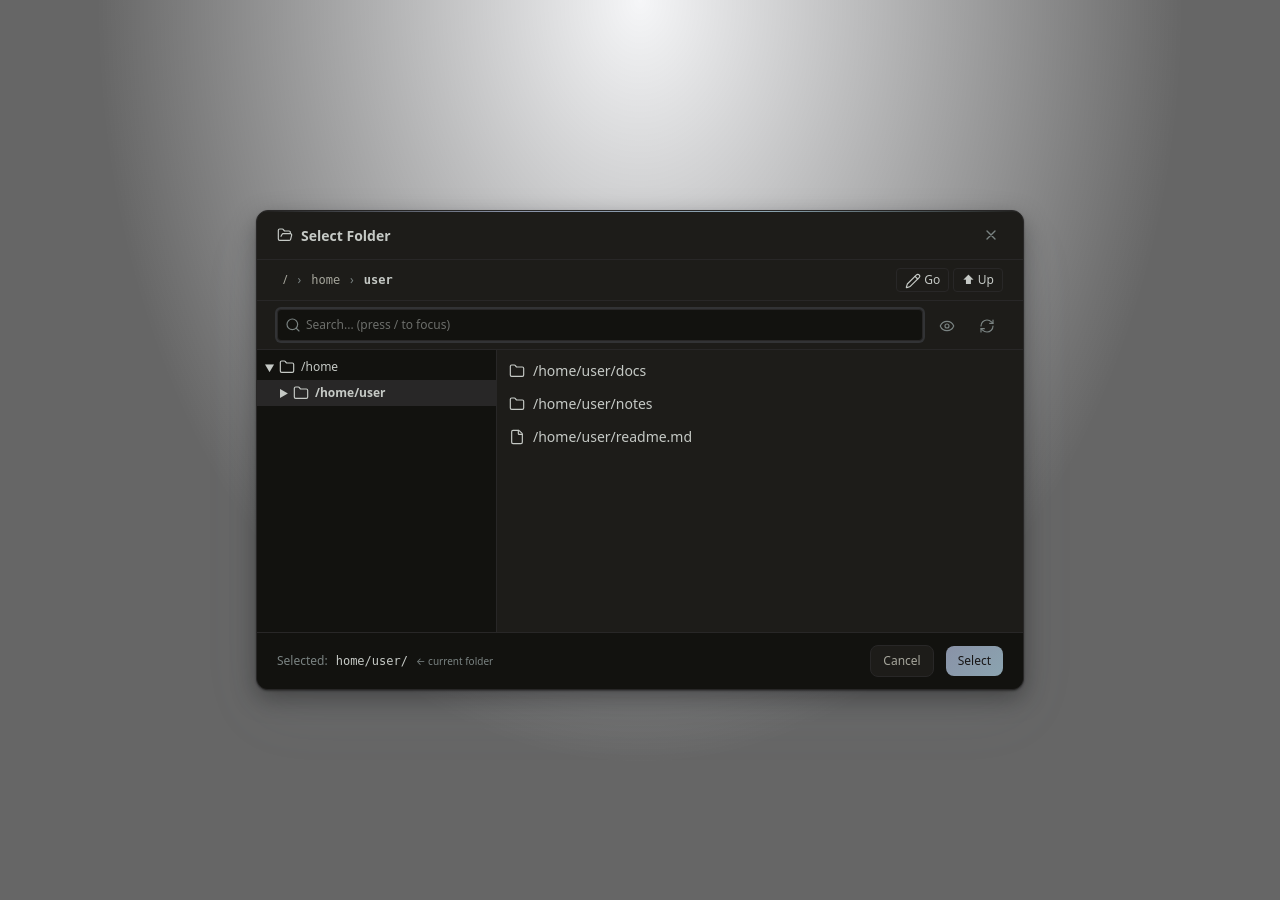
Test: FilePickerDialog — selection (folder mode) › clicking a folder in the content pane selects it (folder mode)
The image size is (1280, 900).
Click the button with test id "file-picker-item-/home/user/docs". click: point(590, 370)
box: [497, 354, 1023, 387]
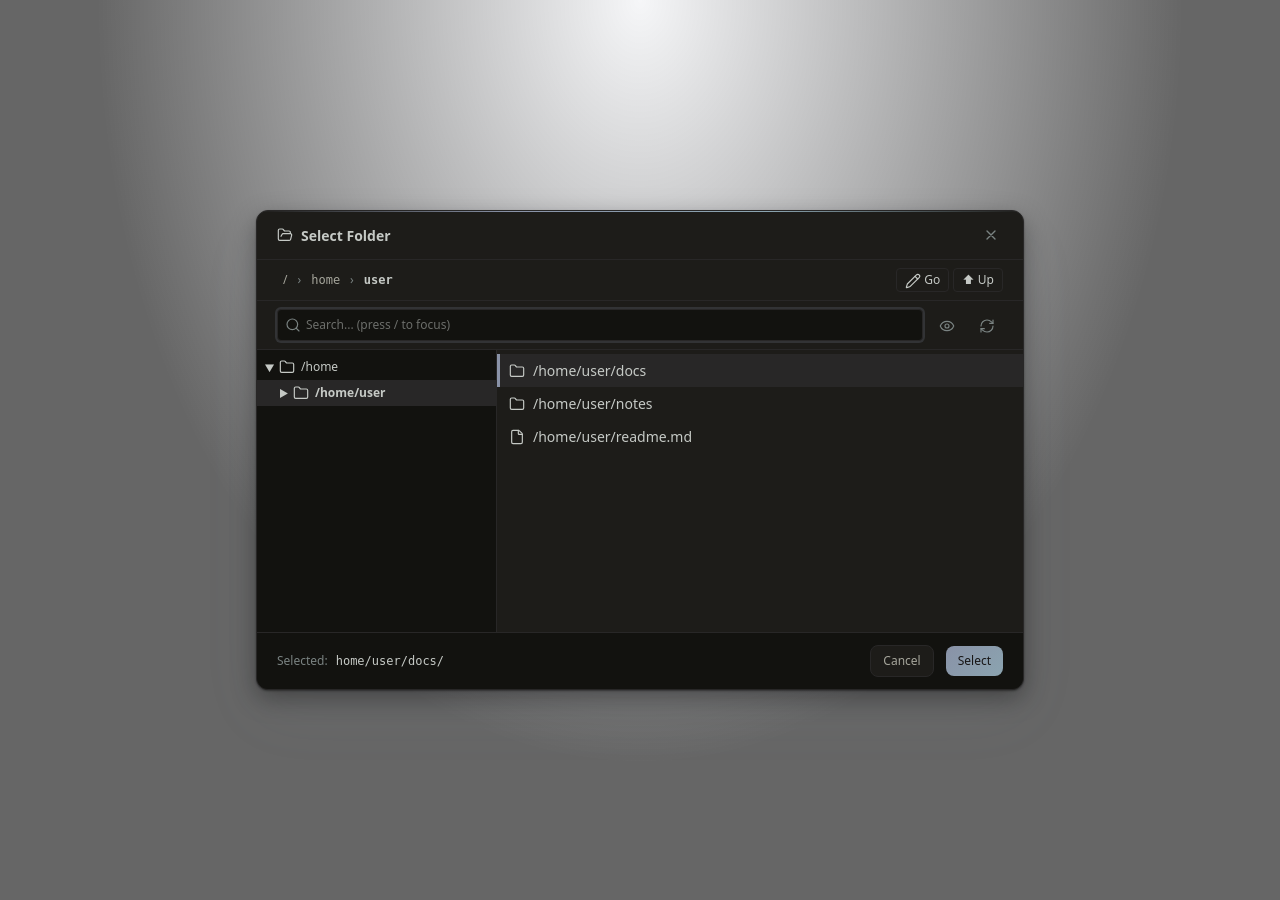
expect the button with test id "file-picker-select" is enabled: met, box [946, 646, 1003, 676]
expect the text with test id "file-picker-selected-path" reads "/home/user/docs": met, box [336, 654, 444, 668]
